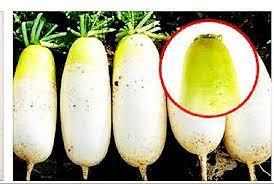radish: (48, 9, 70, 53), (25, 10, 48, 52), (6, 13, 25, 51)
